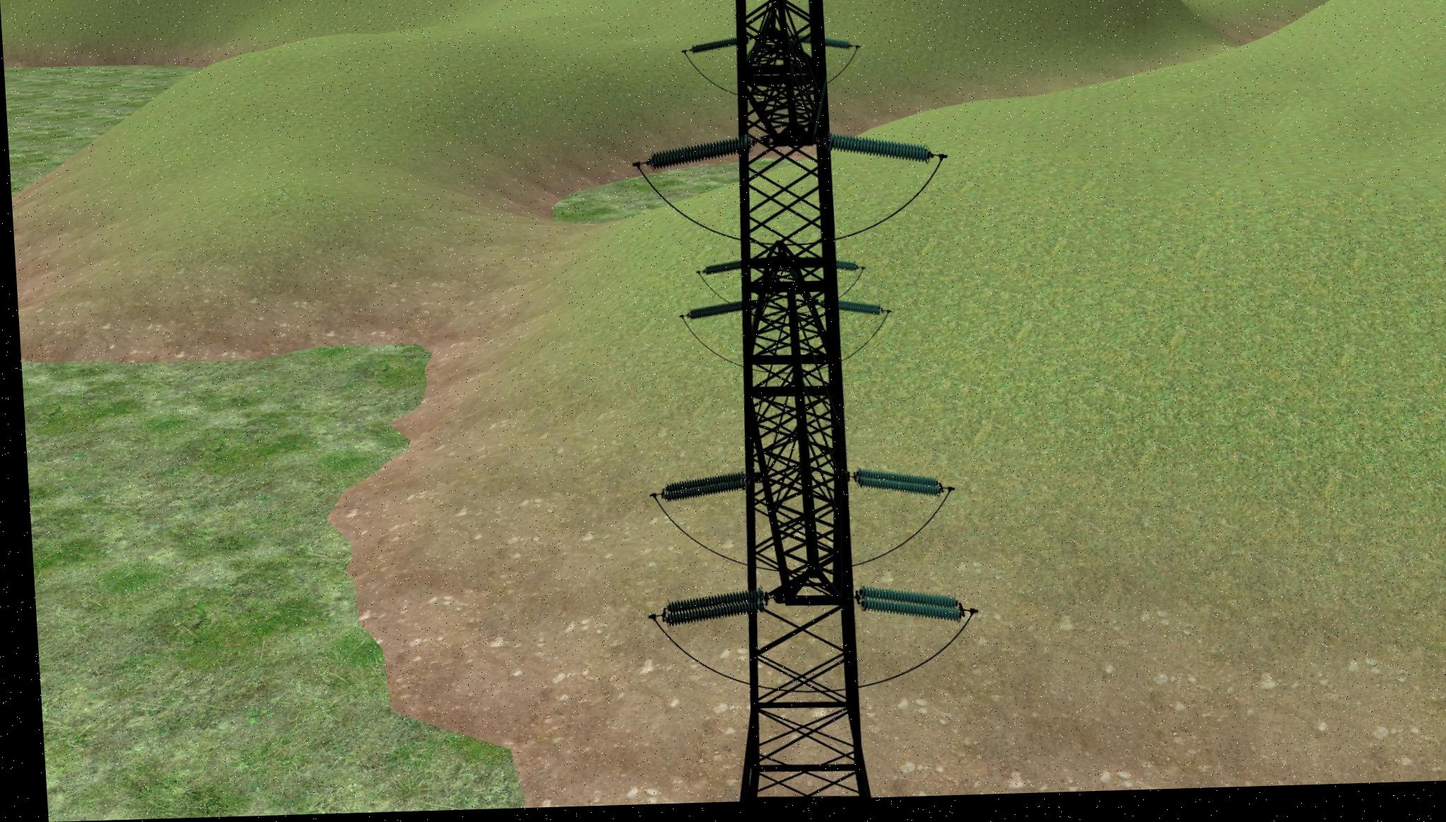tower: (678, 0, 899, 802)
